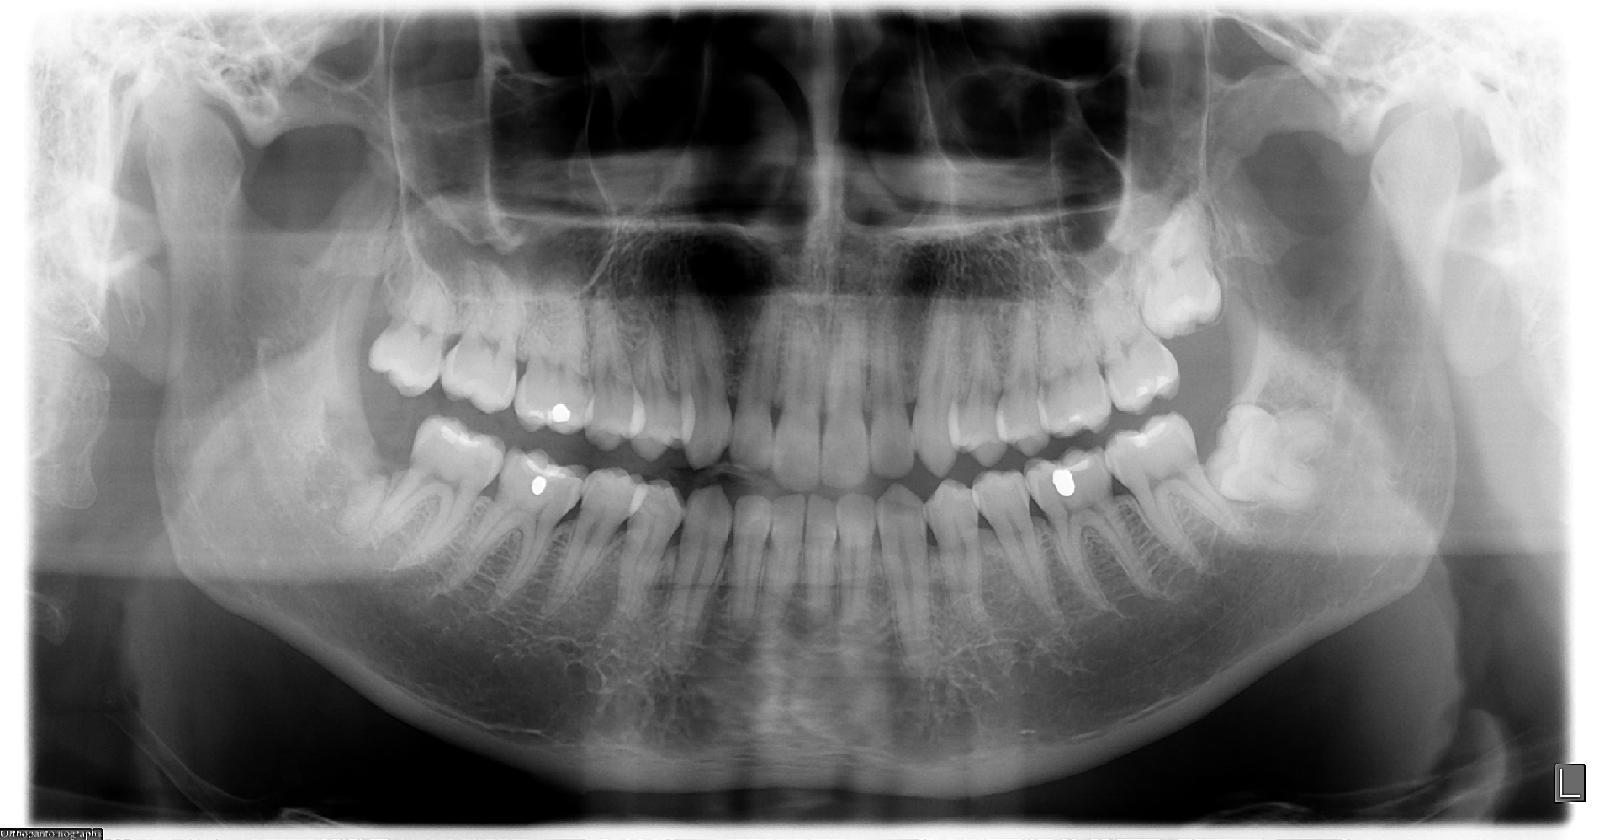Horizontal: (1209, 387, 1344, 520)
